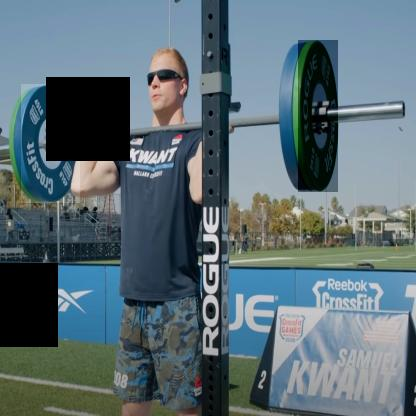barbell: (22, 85, 81, 204), (300, 41, 340, 193)
